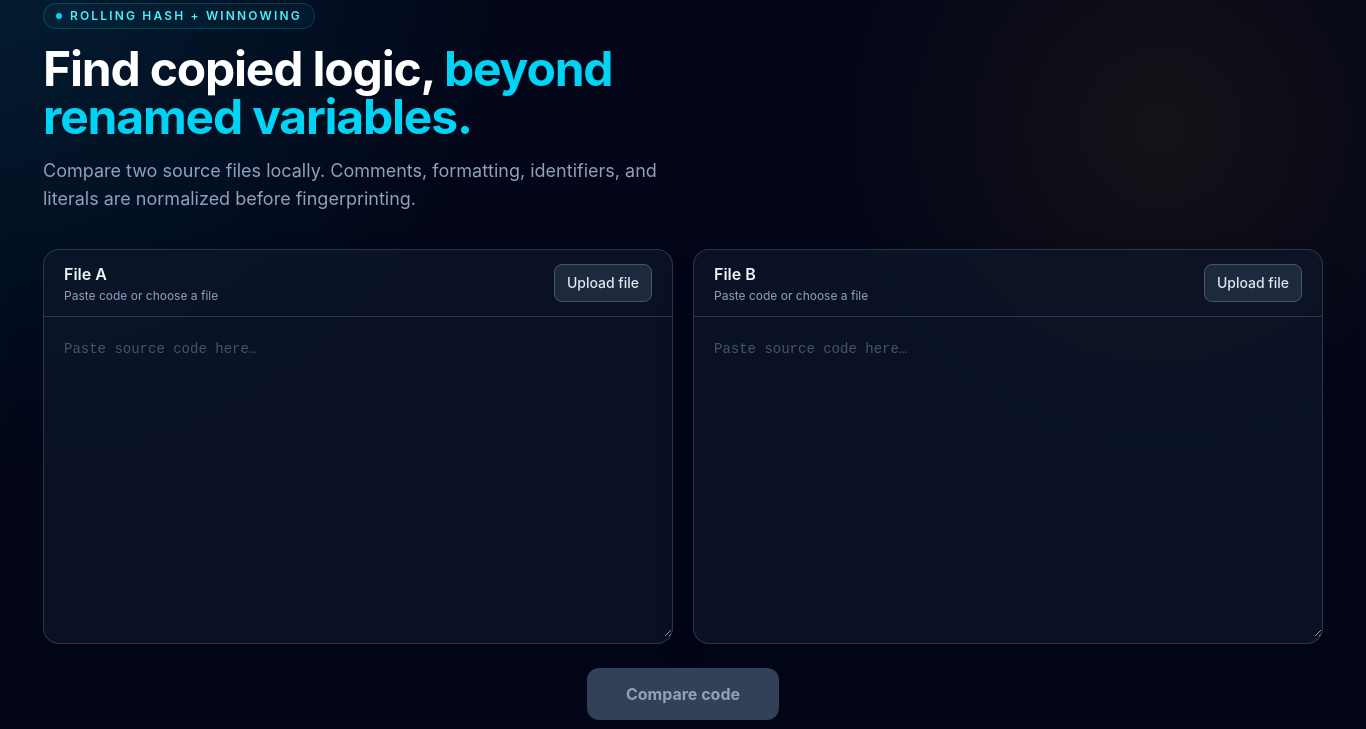
comparison page › shows a plain error when the backend is unreachable
In the text box named "File A code": (358, 477) top-left (44, 317), bottom-right (672, 637), type "int first return 1"
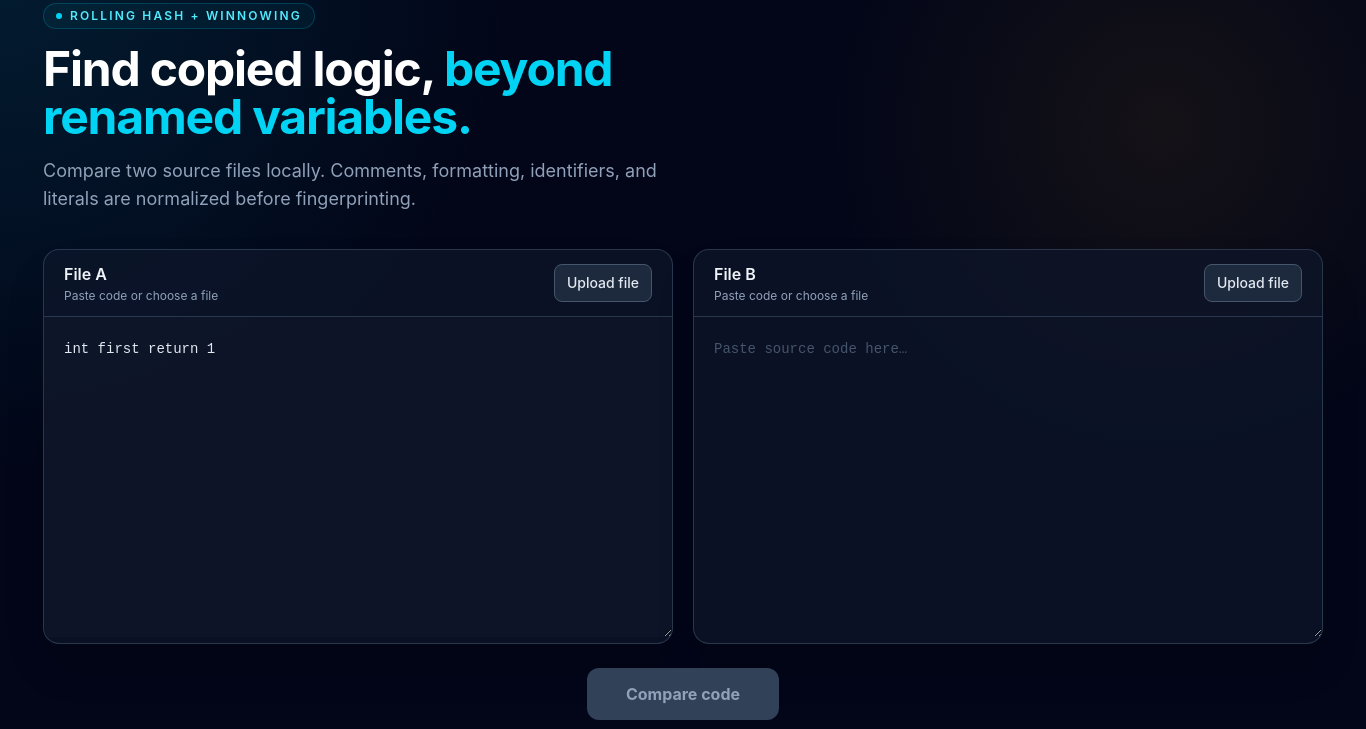
In the text box named "File B code": (1008, 477) top-left (694, 317), bottom-right (1322, 637), type "int second return 2"
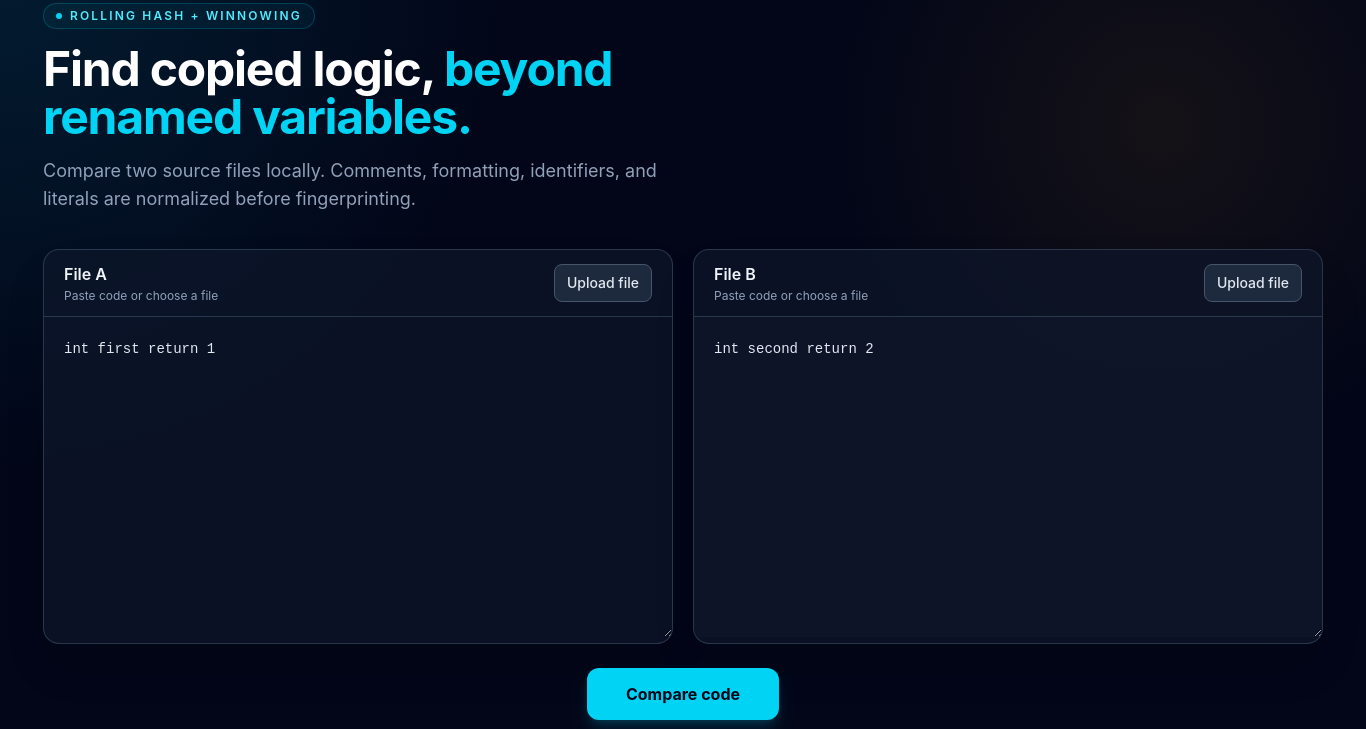
Click the button "Compare code": click(683, 694) top-left (587, 668), bottom-right (779, 720)
(page scrolled)
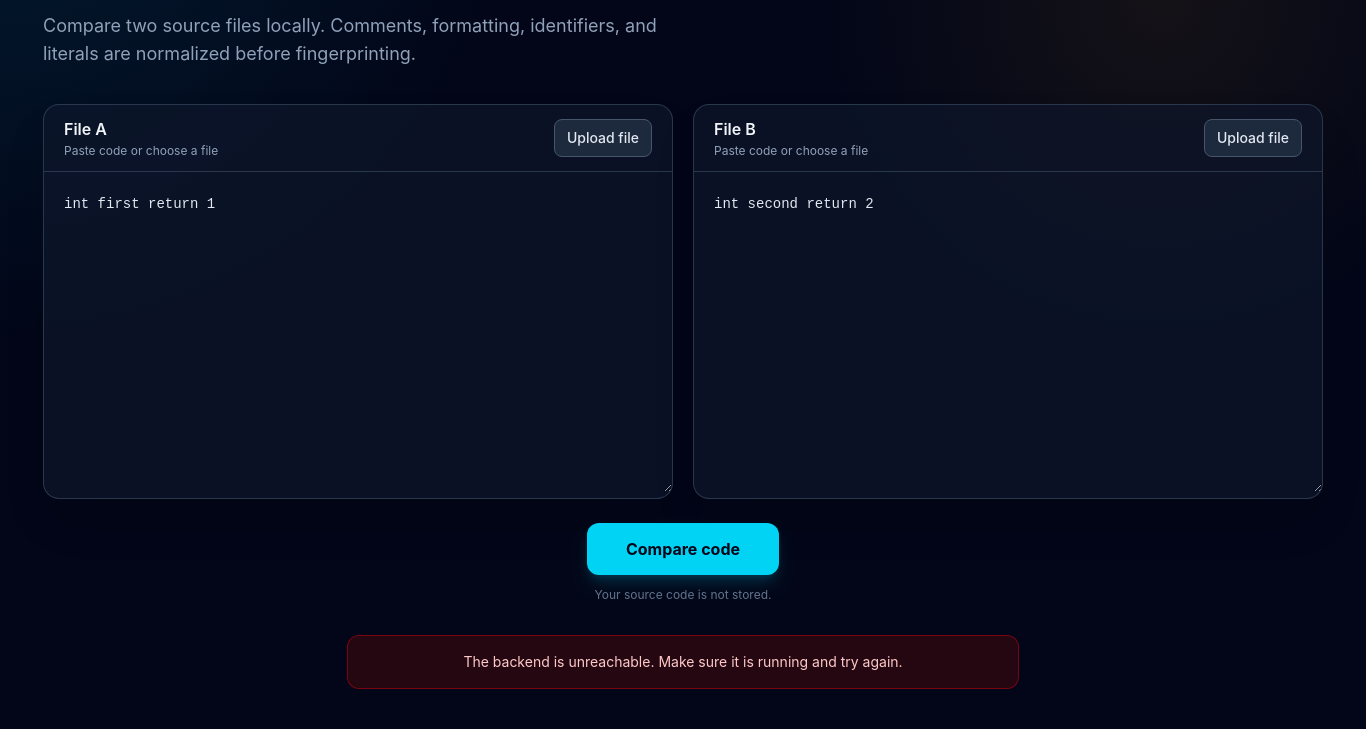
Expected: the message reads "The backend is unreachable. Make sure it is running and try again.", top-left (463, 653), bottom-right (903, 670)
